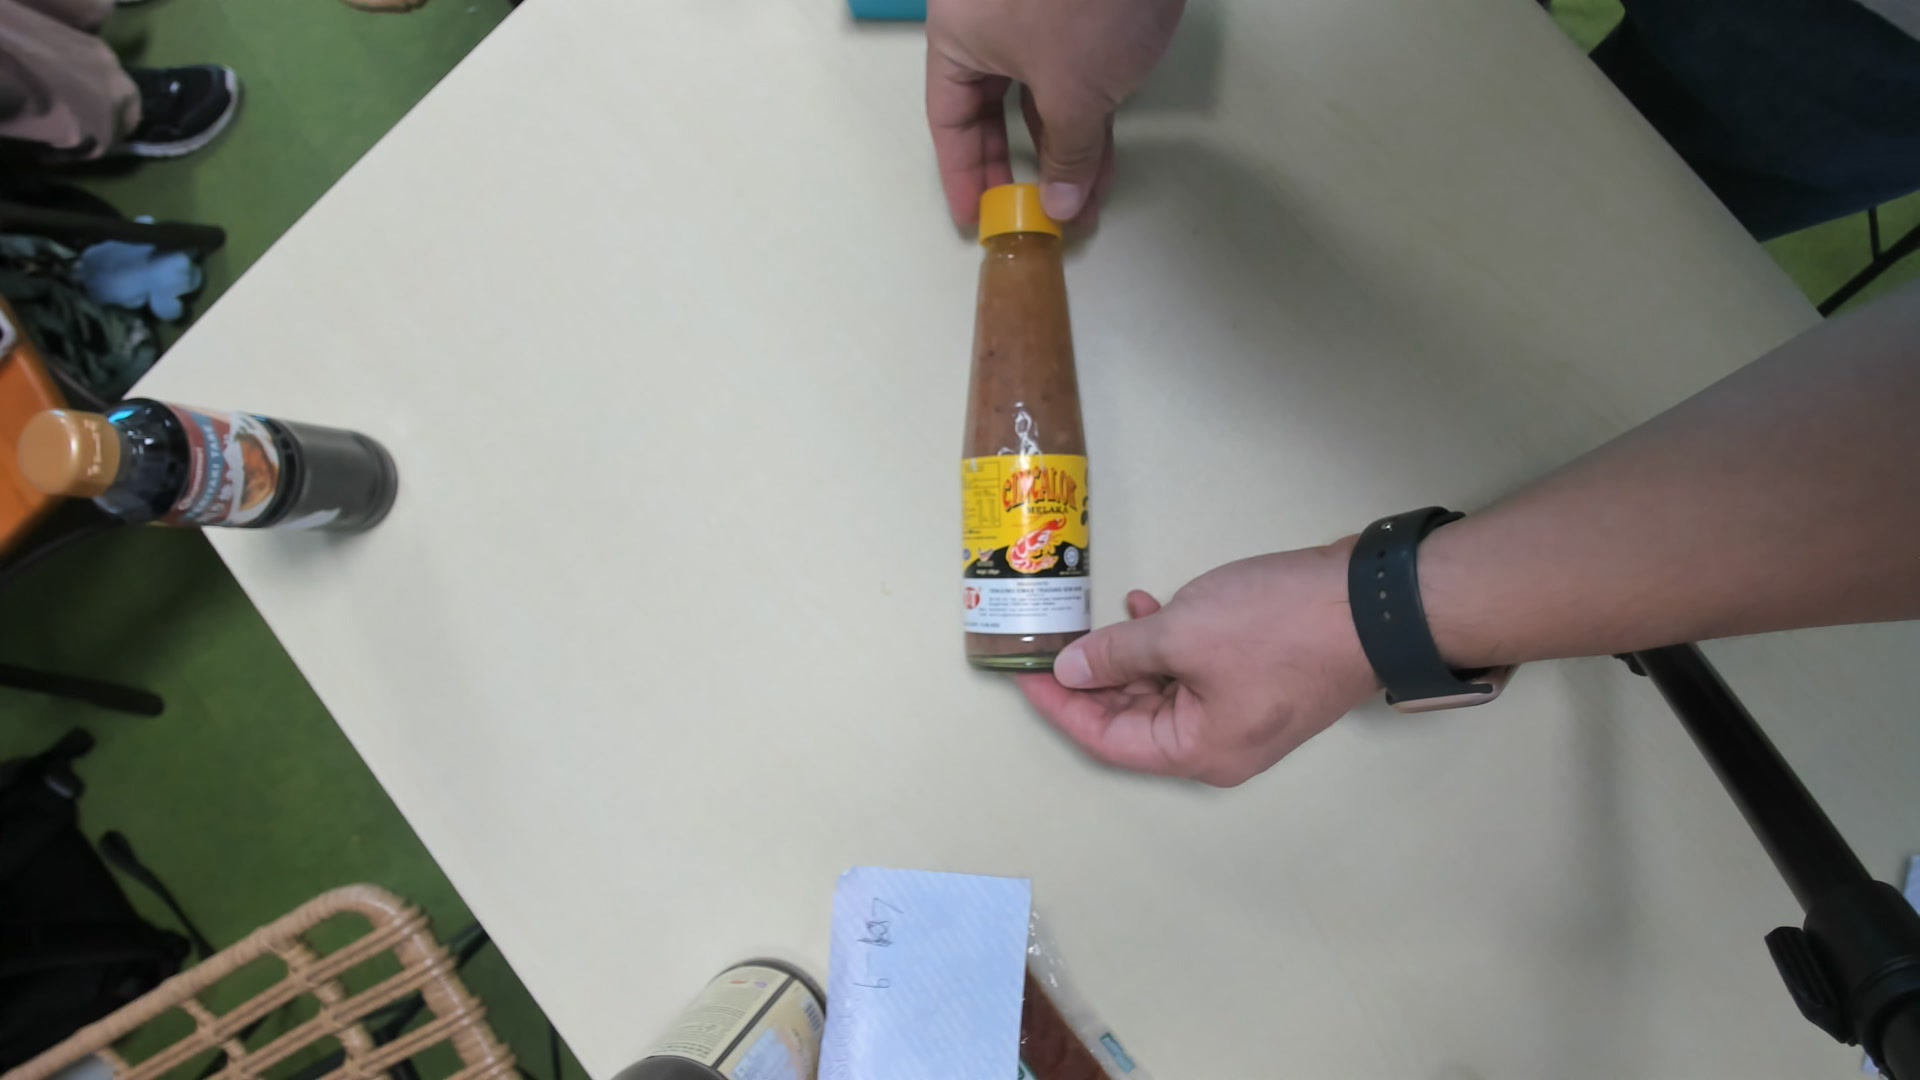OtherSauceDressingSoupbasePaste_200-299g_Halal_NonHealthy: (953, 181, 1095, 669)
